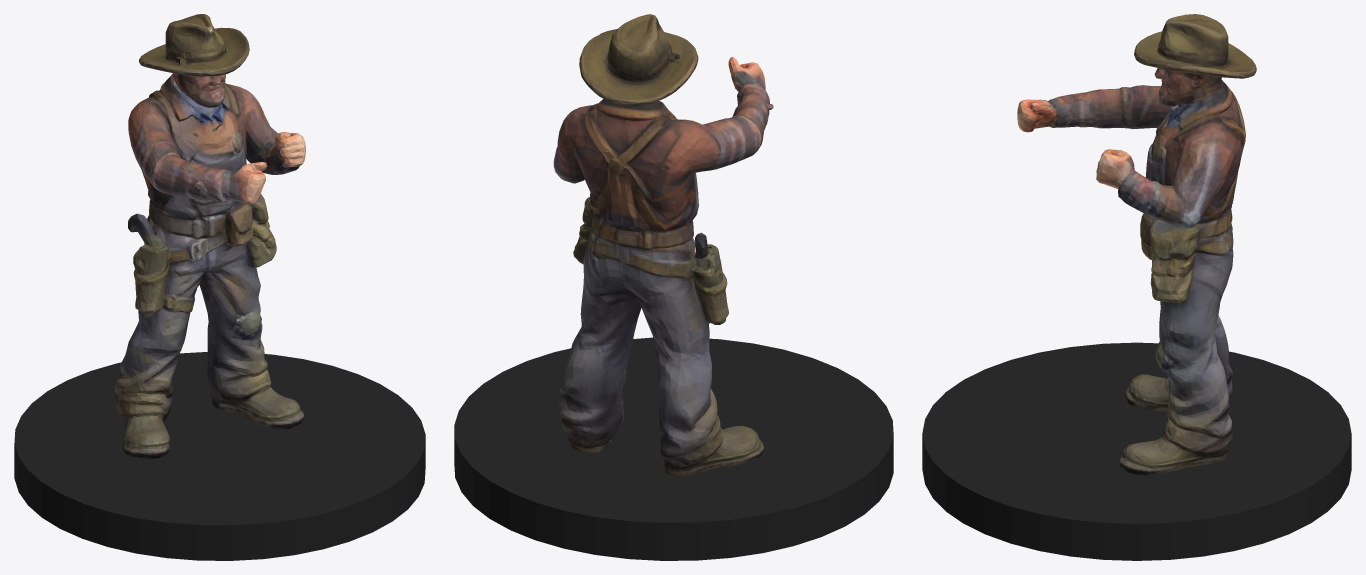
The model's file is settler@long.glb.
3 renders of one model, left to right at view 1: azimuth 30°, elevation 25°; view 2: azimuth 150°, elevation 25°; view 3: azimuth 270°, elevation 25°, orthographic. The views are drawn at different scales.
Visible parts, largest first — view 1: base, figure; view 2: base, figure; view 3: base, figure.
Boxes of the visible parts, x1,y1,x2,y2 form: base: [14, 352, 425, 560]; figure: [114, 14, 305, 458]; base: [454, 337, 893, 560]; figure: [553, 14, 773, 476]; base: [922, 342, 1351, 560]; figure: [1017, 14, 1256, 475].
Size of the model in its own units: 1.26 by 1.47 by 1.26.
2 materials, 1 textured.
